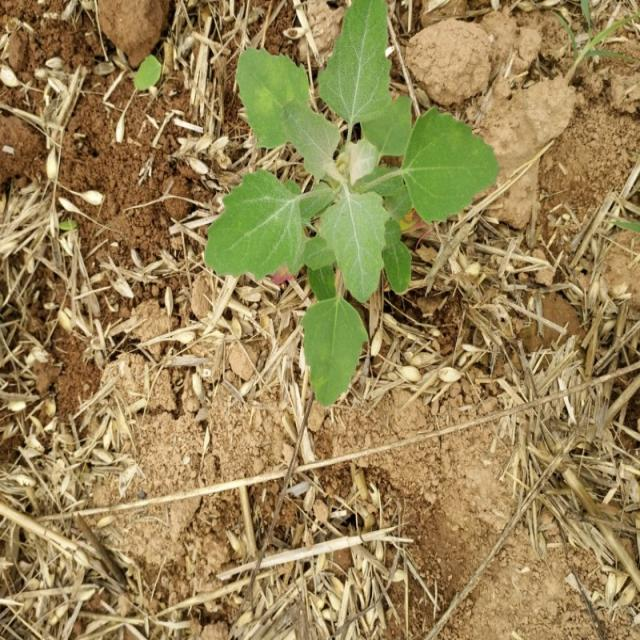ca: (206, 0, 498, 407)
